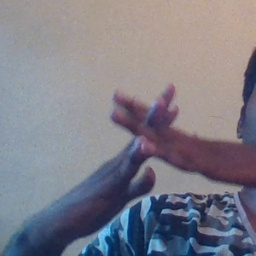W: (94, 70, 204, 213)
